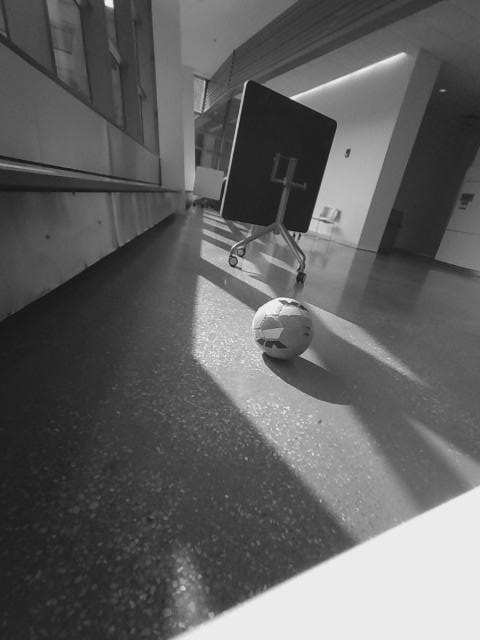ball: (250, 296, 316, 362)
